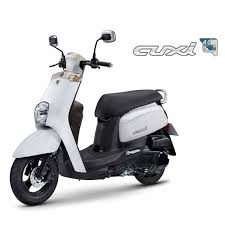motorcycle: (8, 28, 180, 205)
